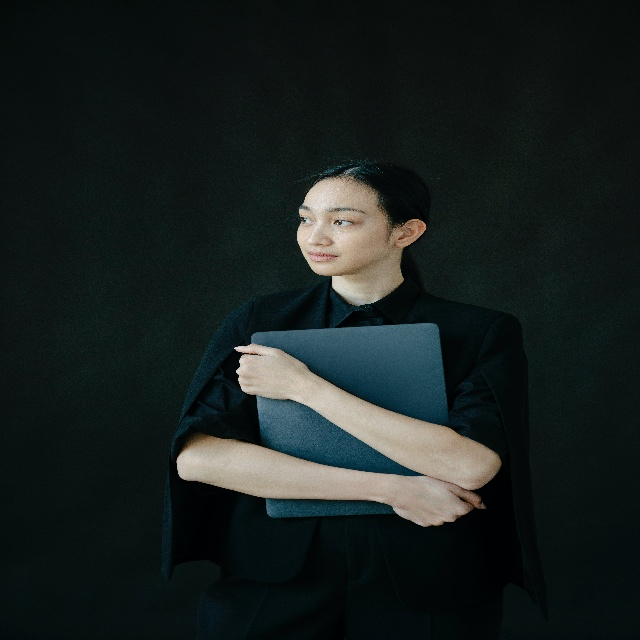Sin_guantes: (391, 467, 489, 527), (233, 343, 306, 402)
